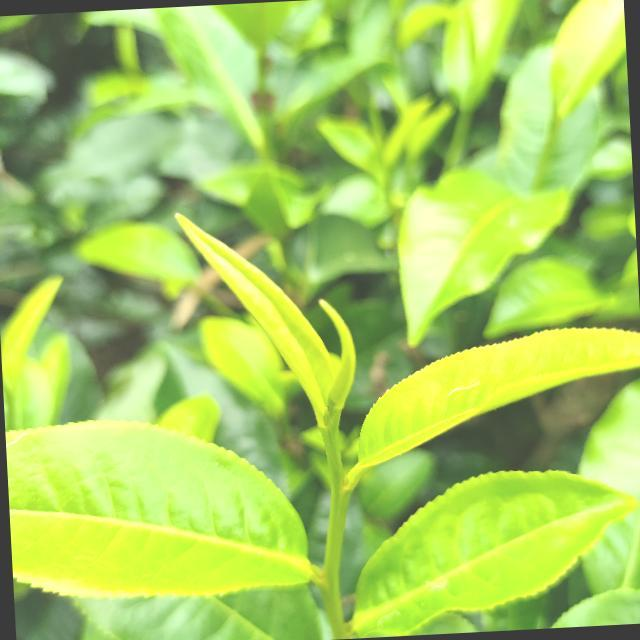Stem: (333, 484, 350, 506)
